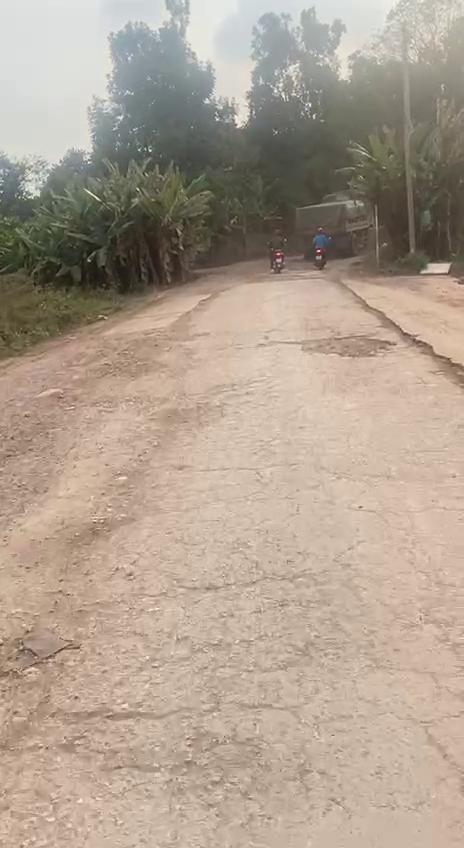pothole: (296, 332, 394, 360)
